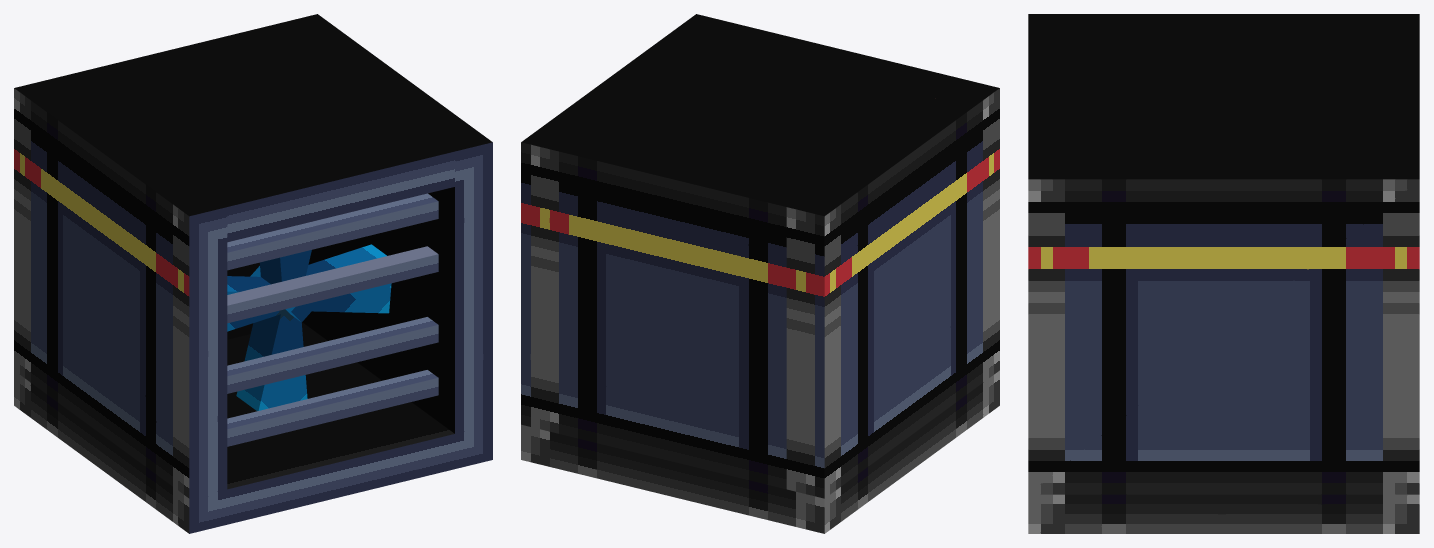
The model's file is Fan.gltf.
The picture shows the model from 3 angles, left to right: view 1: azimuth 30°, elevation 25°; view 2: azimuth 150°, elevation 25°; view 3: azimuth 270°, elevation 25°; orthographic projection. The views are drawn at different scales.
Parts seen in each view (by area): view 1: Box, cylinder; view 2: Box; view 3: Box.
Boxes of the visible parts, x1,y1,x2,y2 form: Box: [14, 14, 492, 533]; cylinder: [227, 244, 391, 411]; Box: [521, 14, 999, 533]; Box: [1028, 14, 1419, 533].
Bounding box in the file's own units: 2 × 2 × 2.
Materials: 1 (1 with a texture image).
